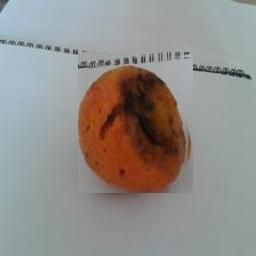Mango Rotten: (78, 53, 193, 194)
